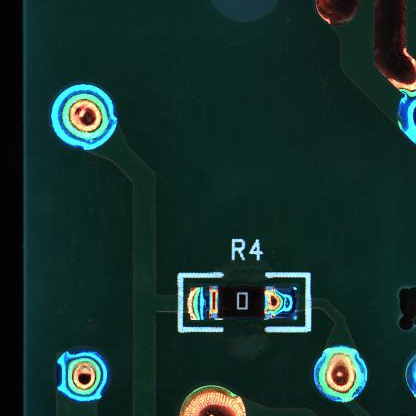spot: (48, 82, 119, 151), (308, 344, 367, 399), (55, 345, 110, 401)
